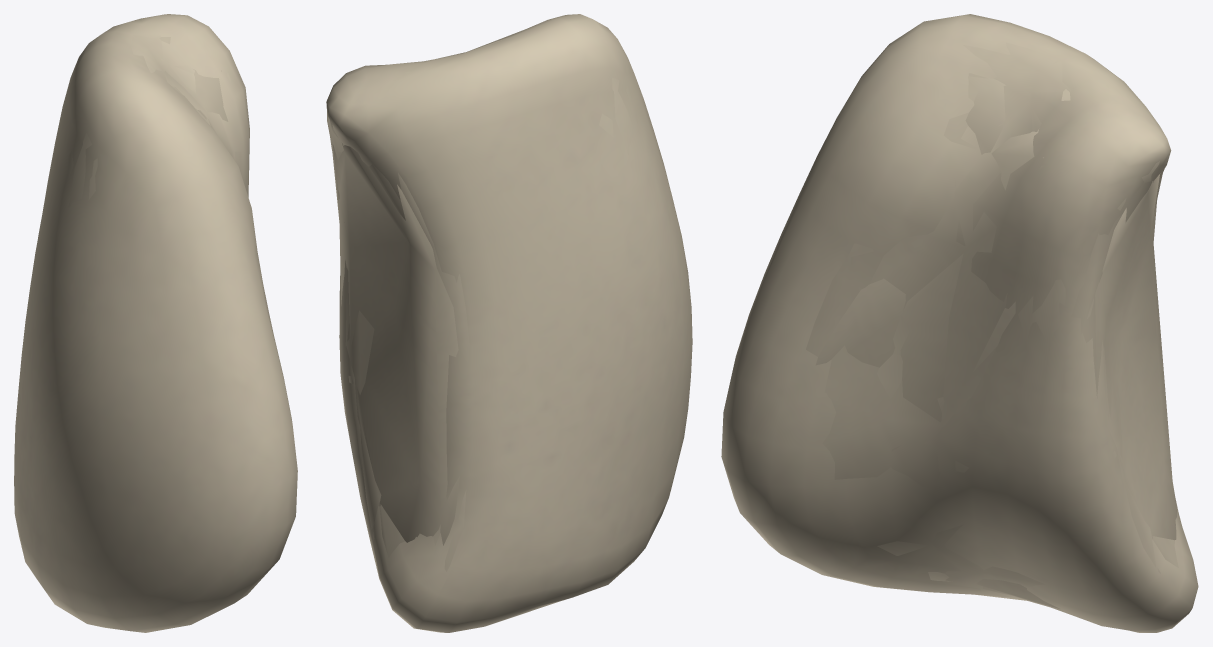
File: R carpale quartum.fbx
3 renders of one model, left to right at view 1: azimuth 30°, elevation 25°; view 2: azimuth 150°, elevation 25°; view 3: azimuth 270°, elevation 25°, orthographic. The views are drawn at different scales.
Visible parts, largest first — view 1: R carpale quartum high, R carpale quartum, R carpale quartum low; view 2: R carpale quartum high, R carpale quartum low, R carpale quartum; view 3: R carpale quartum high, R carpale quartum, R carpale quartum low.
Part boxes in pixels (x1,y1,x2,y2): R carpale quartum high: [14, 14, 297, 632]; R carpale quartum: [68, 21, 267, 305]; R carpale quartum low: [159, 37, 228, 121]; R carpale quartum high: [326, 14, 692, 632]; R carpale quartum low: [332, 143, 459, 545]; R carpale quartum: [330, 31, 638, 571]; R carpale quartum high: [721, 14, 1198, 632]; R carpale quartum: [806, 42, 1179, 597]; R carpale quartum low: [815, 76, 1176, 608].
Bounding box in the file's own units: 1.29 × 2.61 × 1.91.
1 material, 1 textured.
